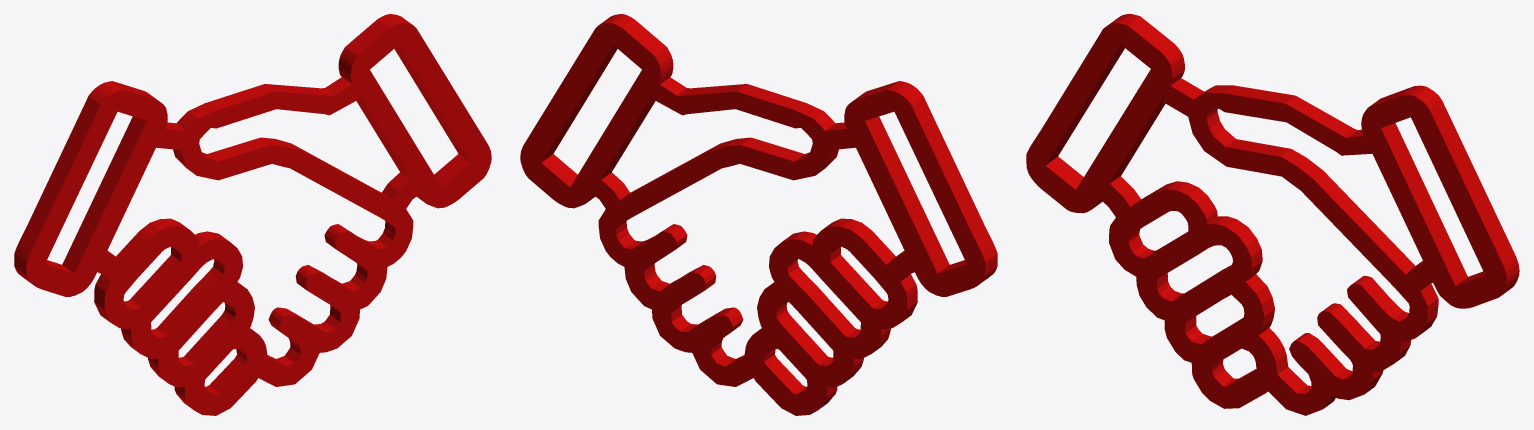
The model's file is partner.obj.
The picture shows the model from 3 angles, left to right: view 1: azimuth 30°, elevation 25°; view 2: azimuth 150°, elevation 25°; view 3: azimuth 330°, elevation 25°; orthographic projection. The views are drawn at different scales.
Visible parts, largest first — view 1: partner; view 2: partner; view 3: partner.
Part boxes in pixels (box(x1,y1,x2,y2)): partner: box(14, 14, 491, 415); partner: box(520, 14, 997, 415); partner: box(1026, 14, 1519, 415).
Bounding box in the file's own units: 4.98 × 3.58 × 0.2269.
